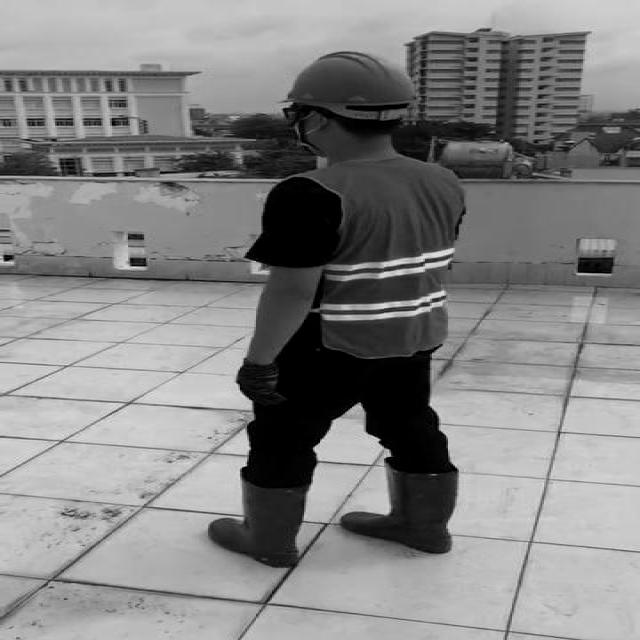boots: (345, 465, 462, 556), (206, 477, 311, 567)
hand_glove: (236, 362, 286, 405)
head_helmet: (274, 46, 428, 112)
person: (197, 42, 483, 569)
vest: (311, 158, 469, 358)
